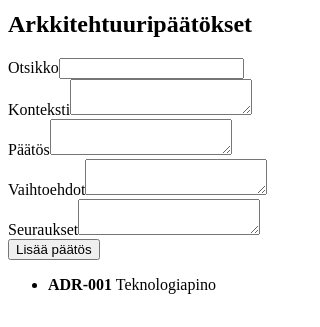
Test: AdrView › tallentaa uuden ADR:n ja lisää sen listan loppuun
The image size is (320, 327).
Expected: the list item "Teknologiapino" is shown, [116,276,216,293]
Step 1. Type "Lisenssi" into the field labelled "Otsikko" → (151, 68), box [59,58,244,79]
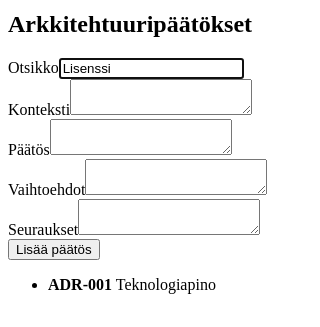
Step 2. Type "GPLv3 rajoittaa" into the text box labelled "Konteksti" → (161, 97), box [70,79,252,115]
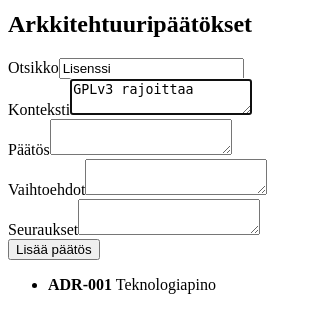
Step 3. Type "MIT" into the text box labelled "Päätös" → (141, 137), box [50,119,232,155]
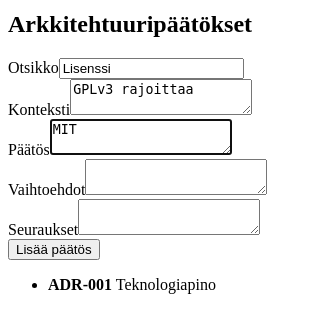
Step 4. Type "Apache 2.0" into the text box labelled "Vaihtoehdot" → (176, 177), box [85,159,267,195]
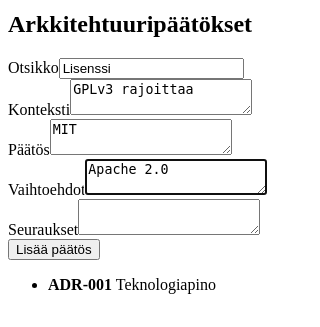
Step 5. Click the button "Lisää päätös" → (54, 249), box [8,239,100,260]
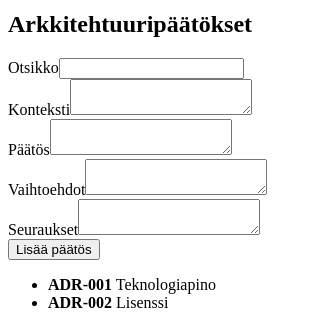
Expected: the number of list items is 2, [48,276,216,293]; [48,294,168,311]
Expected: the list item "ADR-002 Lisenssi" is shown, [48,294,168,311]
Expected: the field labelled "Otsikko" is empty, [59,58,244,79]
